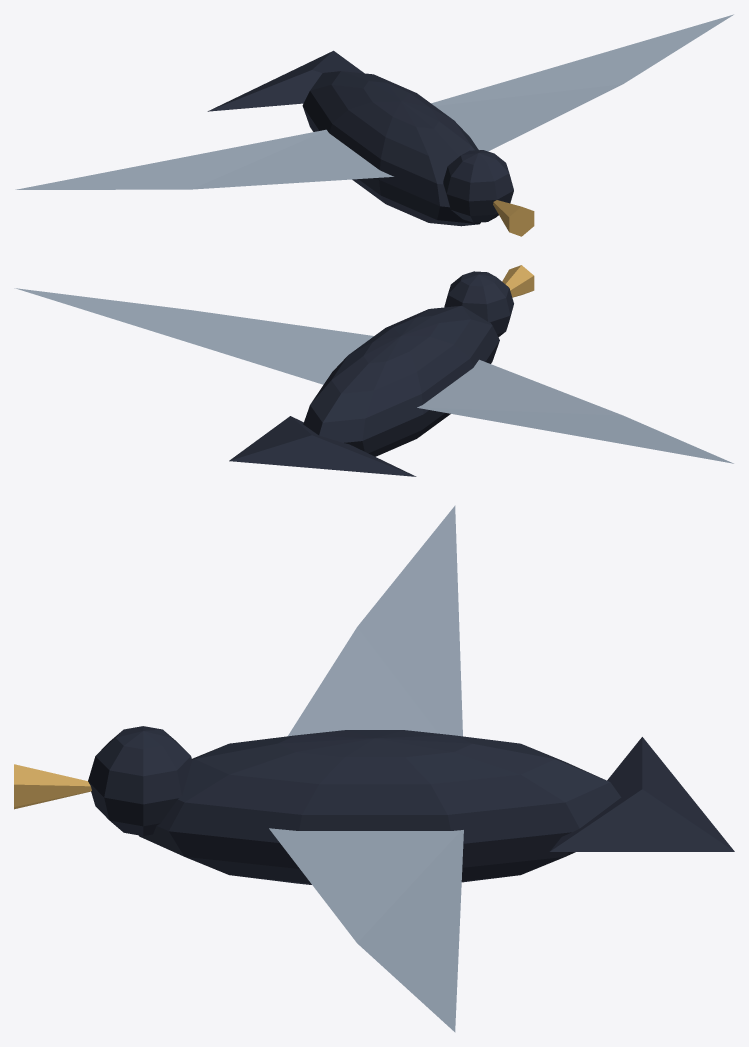
Rendered from roc.glb.
3 views of the same model, one above another, from view 1: azimuth 30°, elevation 25°; view 2: azimuth 150°, elevation 25°; view 3: azimuth 270°, elevation 25° (orthographic). The views are drawn at different scales.
Visible parts, largest first — view 1: Sphere, wingR, wingL, Sphere.001, Cone.001, Cone; view 2: Sphere, wingR, wingL, Cone.001, Sphere.001, Cone; view 3: Sphere, wingR, wingL, Cone.001, Sphere.001, Cone.
Part boxes in pixels (<box>): Sphere: <box>302,71,480,226</box>; wingR: <box>431,14,733,151</box>; wingL: <box>15,129,393,189</box>; Sphere.001: <box>443,150,513,222</box>; Cone.001: <box>207,50,363,111</box>; Cone: <box>493,200,534,236</box>; Sphere: <box>303,305,499,456</box>; wingR: <box>14,288,373,384</box>; wingL: <box>417,359,733,463</box>; Cone.001: <box>229,416,416,476</box>; Sphere.001: <box>444,271,513,337</box>; Cone: <box>502,265,534,297</box>; Sphere: <box>139,730,621,884</box>; wingR: <box>269,828,463,1032</box>; wingL: <box>288,505,462,736</box>; Cone.001: <box>550,737,734,851</box>; Sphere.001: <box>88,726,192,835</box>; Cone: <box>14,764,91,809</box>.
Size of the model in its own units: 14 by 1.85 by 8.09.
